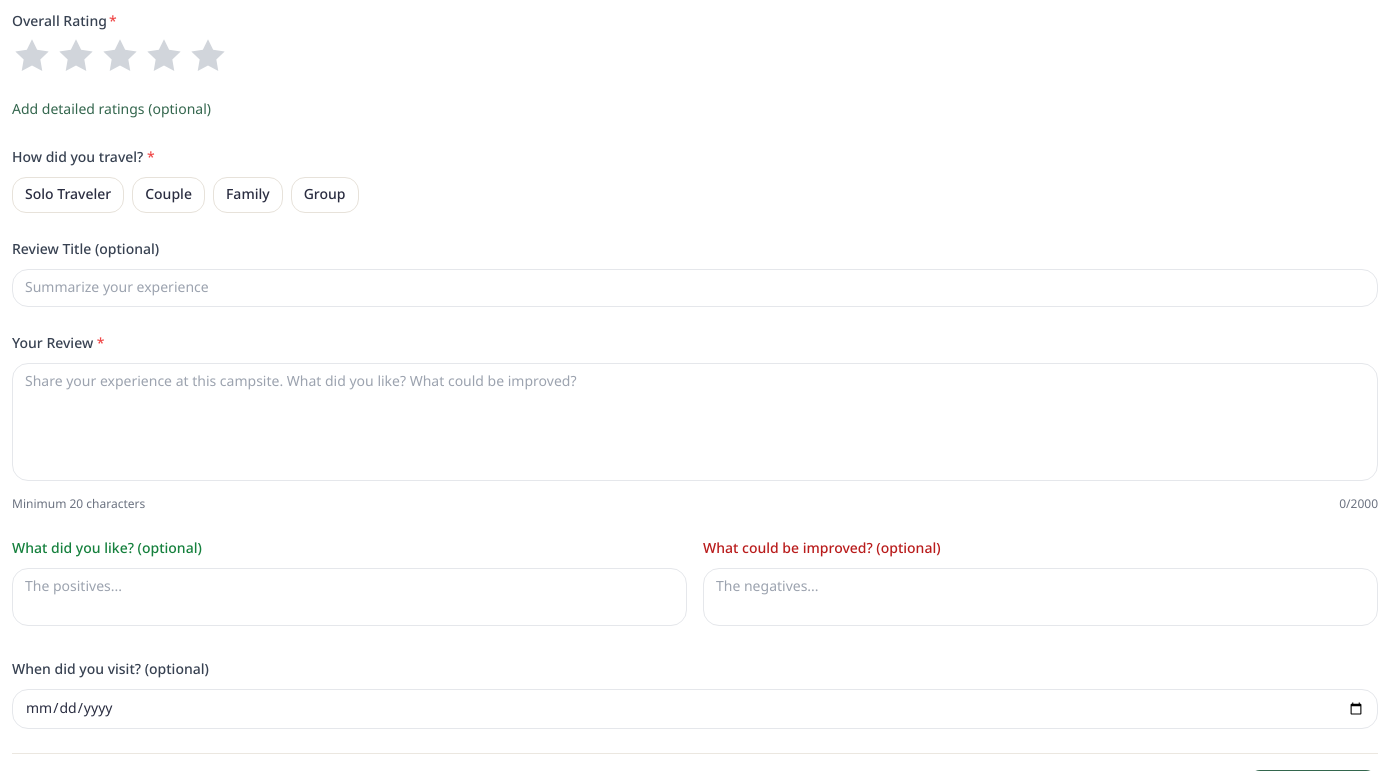
Test: WriteReviewForm › Rendering › hides sub-ratings when toggle is clicked again
Click the button "Add detailed ratings (optional)". click: coordinates (112, 110)
box: [12, 100, 211, 120]
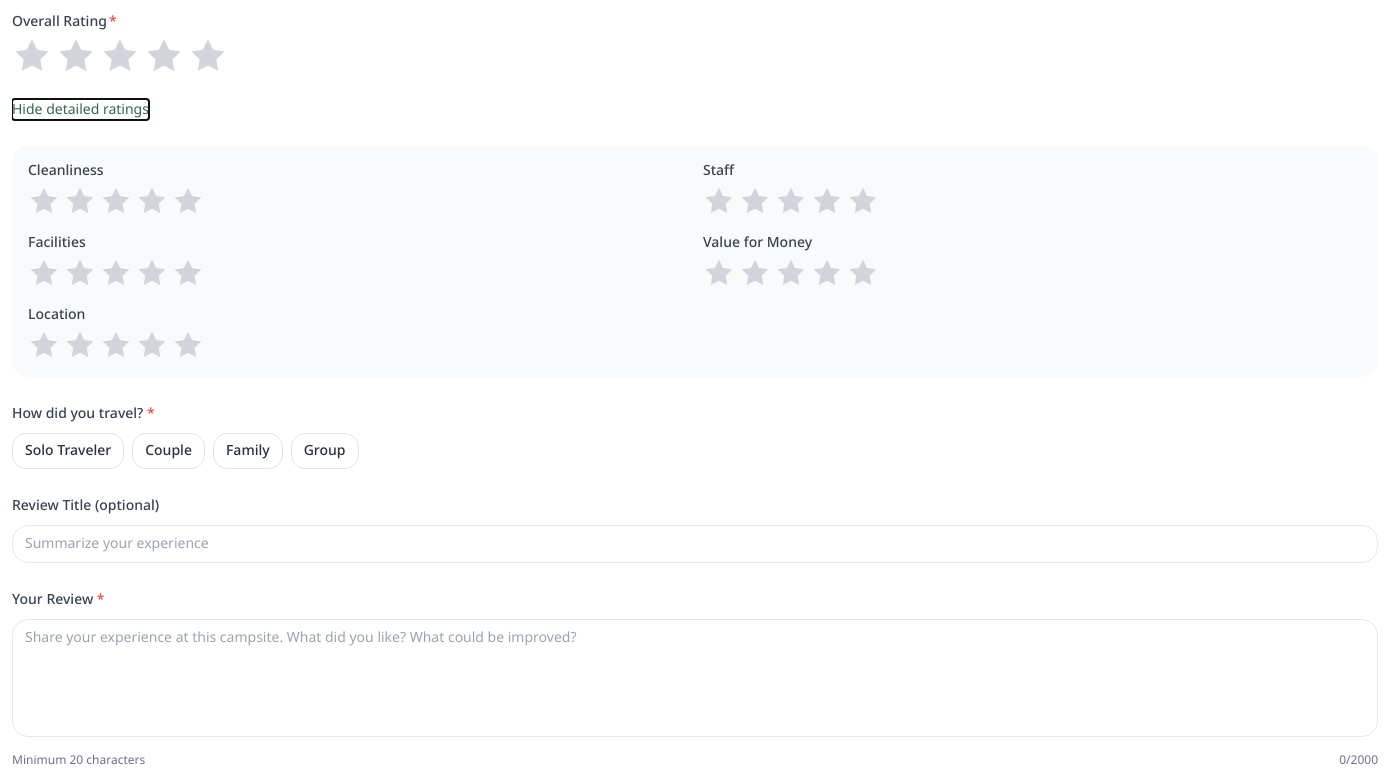
Expected: the text "Cleanliness" is shown, [28, 160, 104, 181]
Click the button "Hide detailed ratings". click: coordinates (80, 110)
box: [12, 100, 149, 120]
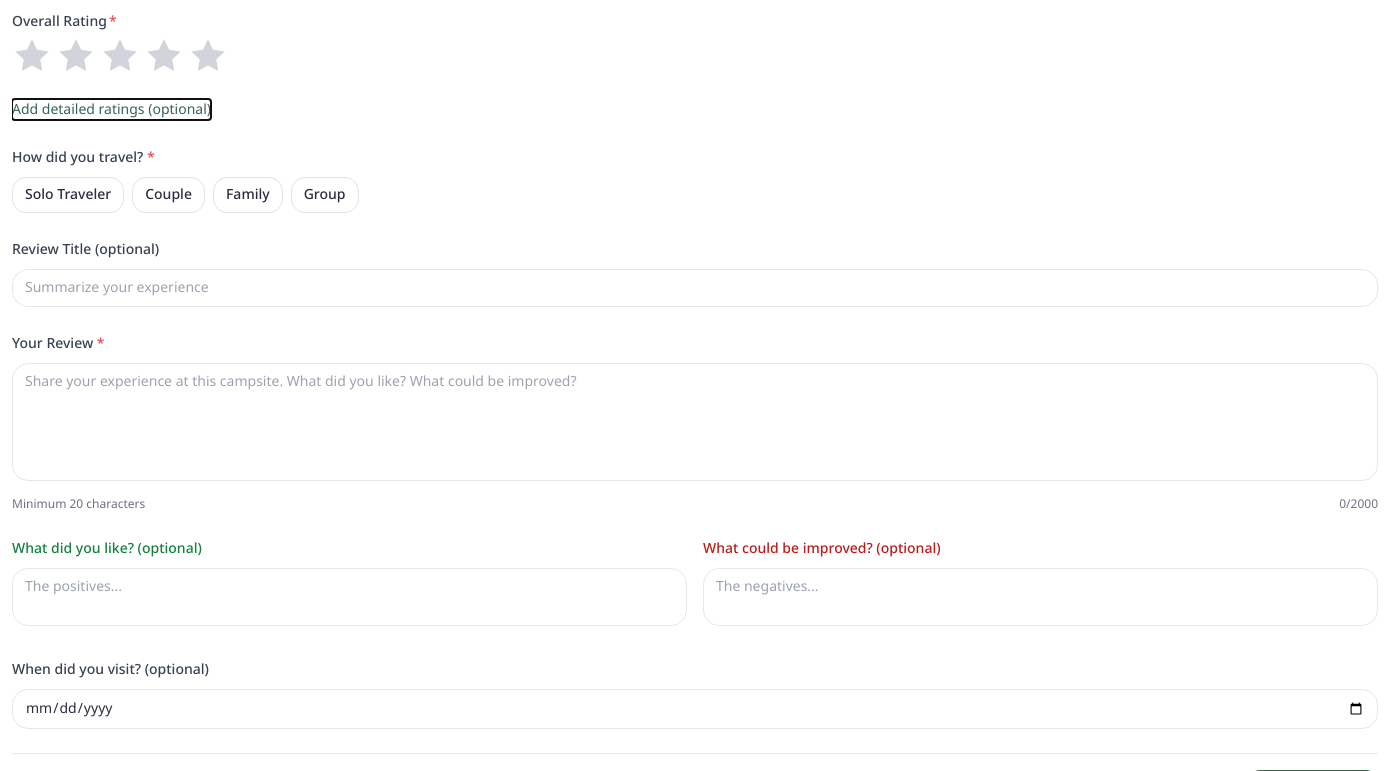
Expected: the text "Cleanliness" is gone
